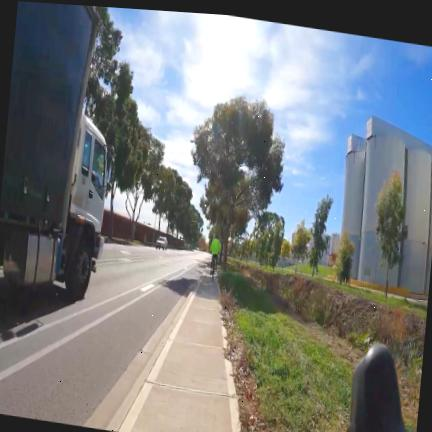Bike_Lane: (0, 261, 206, 427)
